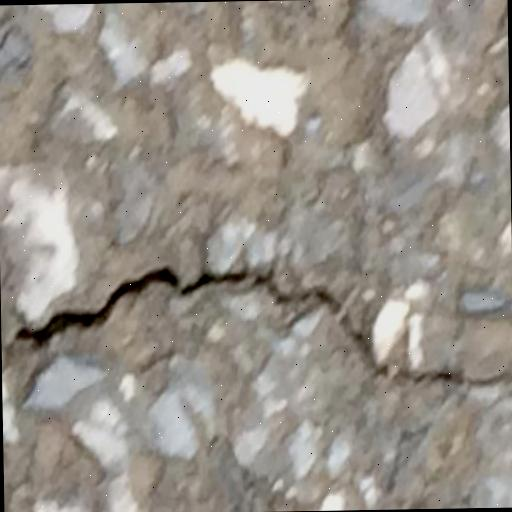spalling: (11, 257, 509, 387)
